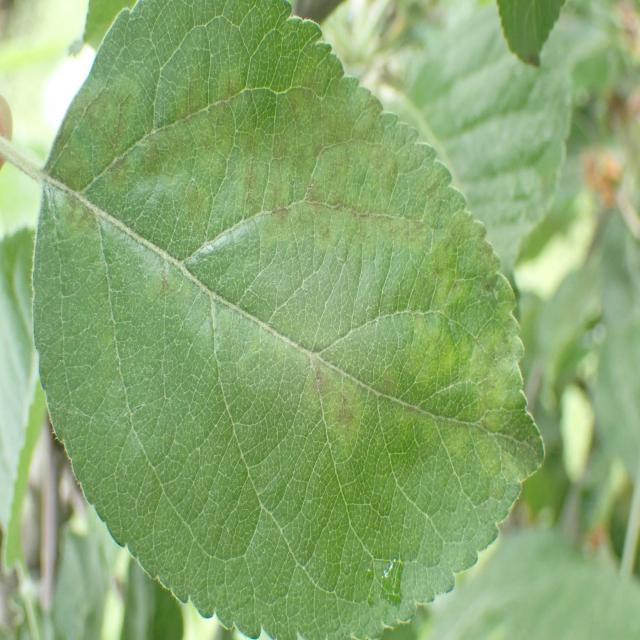scab: (34, 28, 554, 542)
